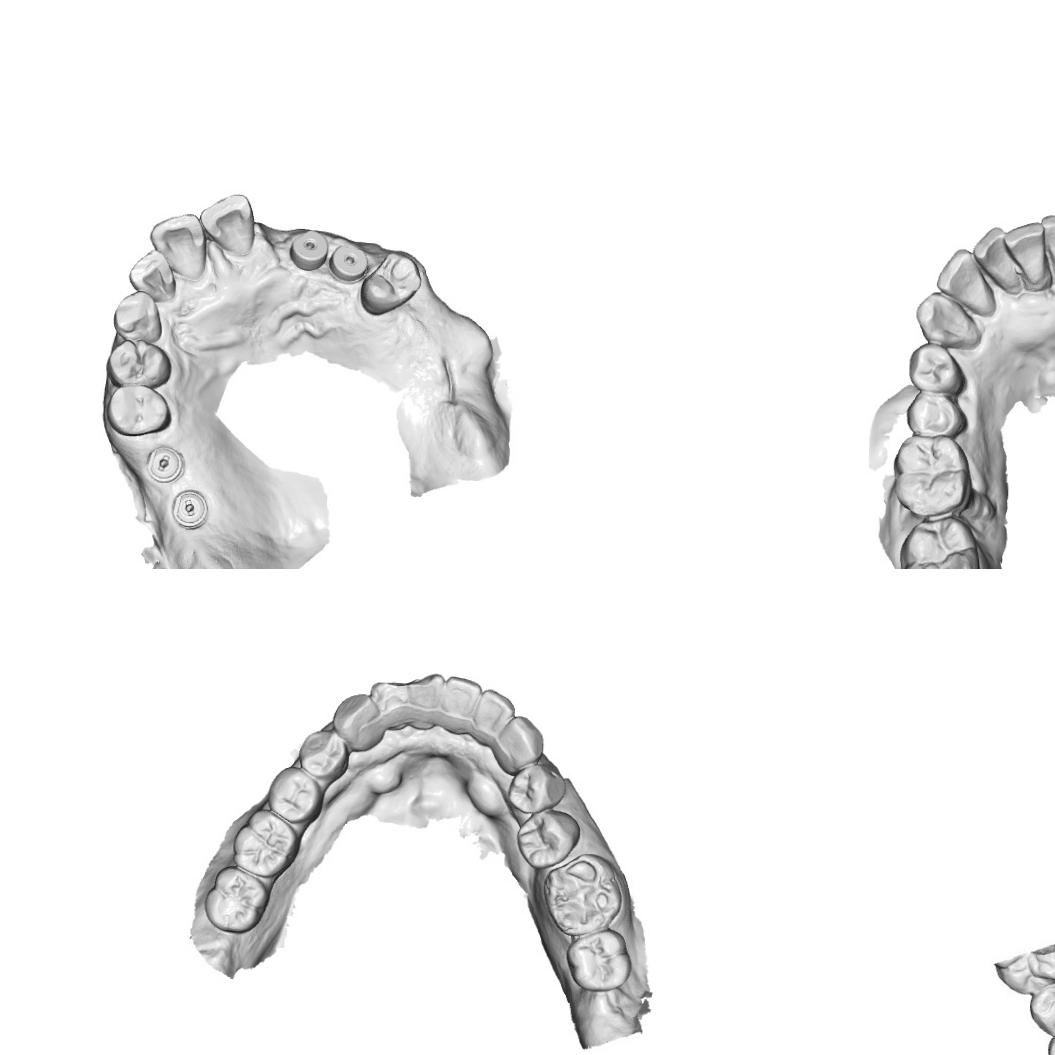canine: (912, 290, 980, 348), (328, 691, 388, 754), (490, 714, 547, 777), (111, 287, 164, 346)
implant: (285, 226, 334, 273), (329, 242, 369, 286)
implant_minus: (171, 487, 213, 533), (142, 444, 185, 486)
incisor: (934, 246, 1002, 320), (148, 211, 210, 284), (196, 190, 258, 258), (968, 224, 1022, 294), (1000, 219, 1050, 288), (437, 672, 485, 736), (126, 247, 179, 304), (403, 668, 446, 732), (471, 686, 518, 742), (371, 678, 411, 733), (1040, 211, 1055, 285)
molar: (887, 433, 982, 522), (540, 851, 626, 938), (230, 810, 302, 880), (202, 864, 270, 935), (564, 926, 634, 994), (895, 515, 983, 569)
premolar: (358, 248, 424, 318), (514, 806, 584, 872), (264, 763, 326, 827), (104, 383, 175, 438), (502, 760, 568, 818), (900, 389, 974, 440), (106, 338, 174, 389), (902, 344, 968, 395), (295, 727, 352, 784), (1027, 979, 1055, 1037)
